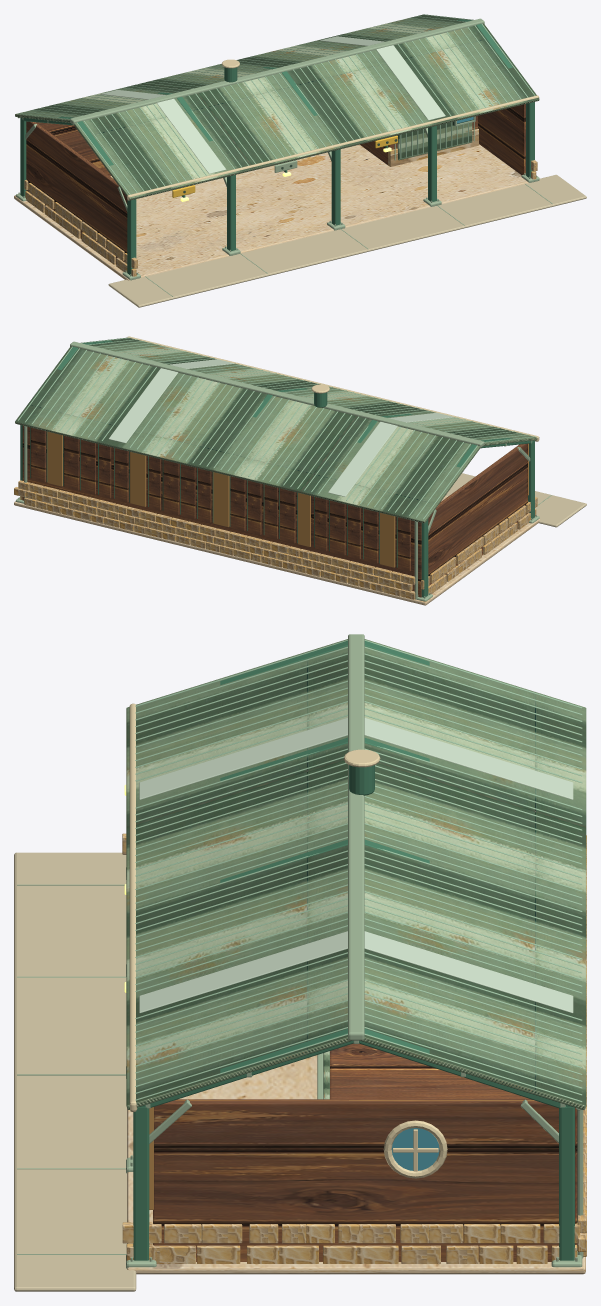
Rendered from bracken_machinery_shed.glb.
3 views of the same model, one above another, from view 1: azimuth 30°, elevation 25°; view 2: azimuth 150°, elevation 25°; view 3: azimuth 270°, elevation 25° (orthographic). The views are drawn at different scales.
Visible parts, largest first — view 1: Static_Hand_Painted_Sage_Roof, ConcreteSlab, FrontApron, Static_Mint_Roof_Ridges, Static_Hand_Painted_Chestnut_Cladding, Static_Painted_Forest_Green_Frame, Static_Soft_Sage_Frame_Edge, Static_Cream_Daylight_Panels, Static_Painted_Cream_Trim, SlidingPartsDoor, Static_Painted_Limestone_Shade, Static_Painted_Limestone_Honey (+1 smaller); view 2: Static_Hand_Painted_Sage_Roof, Static_Hand_Painted_Chestnut_Cladding, Static_Mint_Roof_Ridges, Static_Painted_Limestone_Shade, Static_Honey_Timber_Edge, Static_Painted_Limestone_Honey, Static_Painted_Forest_Green_Frame, Static_Cream_Daylight_Panels, Static_Soft_Sage_Frame_Edge, Static_Painted_Limestone_Pale, ConcreteSlab, FrontApron (+1 smaller); view 3: Static_Hand_Painted_Sage_Roof, Static_Hand_Painted_Chestnut_Cladding, FrontApron, Static_Mint_Roof_Ridges, Static_Cream_Daylight_Panels, Static_Painted_Forest_Green_Frame, Static_Soft_Sage_Frame_Edge, ConcreteSlab, Static_Painted_Limestone_Pale, Static_Painted_Limestone_Shade, Static_Painted_Cream_Trim, Static_Painted_Limestone_Honey (+1 smaller).
Part boxes in pixels (x1=…): Static_Hand_Painted_Sage_Roof: x1=15, y1=14, x2=539, y2=200; ConcreteSlab: x1=14, y1=144, x2=540, y2=280; FrontApron: x1=108, y1=174, x2=586, y2=307; Static_Mint_Roof_Ridges: x1=18, y1=14, x2=535, y2=194; Static_Hand_Painted_Chestnut_Cladding: x1=26, y1=104, x2=525, y2=264; Static_Painted_Forest_Green_Frame: x1=20, y1=19, x2=534, y2=274; Static_Soft_Sage_Frame_Edge: x1=15, y1=18, x2=552, y2=296; Static_Cream_Daylight_Panels: x1=100, y1=36, x2=445, y2=173; Static_Painted_Cream_Trim: x1=127, y1=59, x2=539, y2=200; SlidingPartsDoor: x1=397, y1=122, x2=472, y2=160; Static_Painted_Limestone_Shade: x1=24, y1=160, x2=537, y2=268; Static_Painted_Limestone_Honey: x1=46, y1=128, x2=478, y2=271; Static_Hand_Painted_Sage_Roof: x1=15, y1=337, x2=537, y2=523; Static_Hand_Painted_Chestnut_Cladding: x1=22, y1=425, x2=527, y2=597; Static_Mint_Roof_Ridges: x1=18, y1=337, x2=535, y2=519; Static_Painted_Limestone_Shade: x1=18, y1=480, x2=537, y2=594; Static_Honey_Timber_Edge: x1=47, y1=431, x2=528, y2=567; Static_Painted_Limestone_Honey: x1=29, y1=483, x2=529, y2=599; Static_Painted_Forest_Green_Frame: x1=20, y1=340, x2=534, y2=597; Static_Cream_Daylight_Panels: x1=109, y1=359, x2=453, y2=496; Static_Soft_Sage_Frame_Edge: x1=15, y1=341, x2=551, y2=601; Static_Painted_Limestone_Pale: x1=14, y1=487, x2=536, y2=591; ConcreteSlab: x1=14, y1=495, x2=540, y2=605; FrontApron: x1=445, y1=473, x2=586, y2=527; Static_Hand_Painted_Sage_Roof: x1=126, y1=639, x2=586, y2=1109; Static_Hand_Painted_Chestnut_Cladding: x1=153, y1=1043, x2=577, y2=1261; FrontApron: x1=14, y1=852, x2=136, y2=1291; Static_Mint_Roof_Ridges: x1=135, y1=640, x2=582, y2=1102; Static_Cream_Daylight_Panels: x1=139, y1=718, x2=573, y2=1013; Static_Painted_Forest_Green_Frame: x1=133, y1=640, x2=574, y2=1260; Static_Soft_Sage_Frame_Edge: x1=17, y1=634, x2=583, y2=1268; ConcreteSlab: x1=127, y1=1055, x2=585, y2=1274; Static_Painted_Limestone_Pale: x1=126, y1=875, x2=586, y2=1263; Static_Painted_Limestone_Shade: x1=122, y1=833, x2=586, y2=1263; Static_Painted_Cream_Trim: x1=129, y1=703, x2=447, y2=1178; Static_Painted_Limestone_Honey: x1=154, y1=900, x2=586, y2=1263.
Size of the model in its own units: 27 by 7.94 by 14.98.
21 materials, 7 textured.
